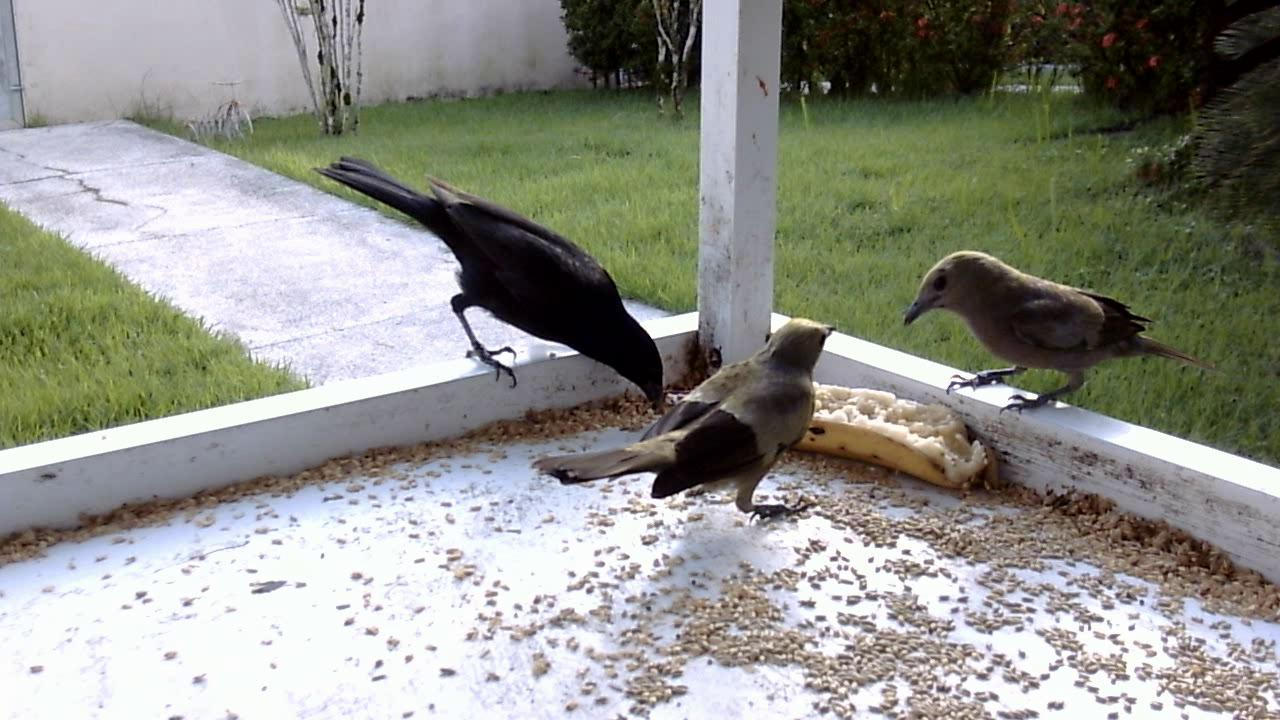chupim: (308, 163, 673, 415)
sanhaco_do_coqueiro: (529, 308, 848, 535), (895, 247, 1216, 431)
